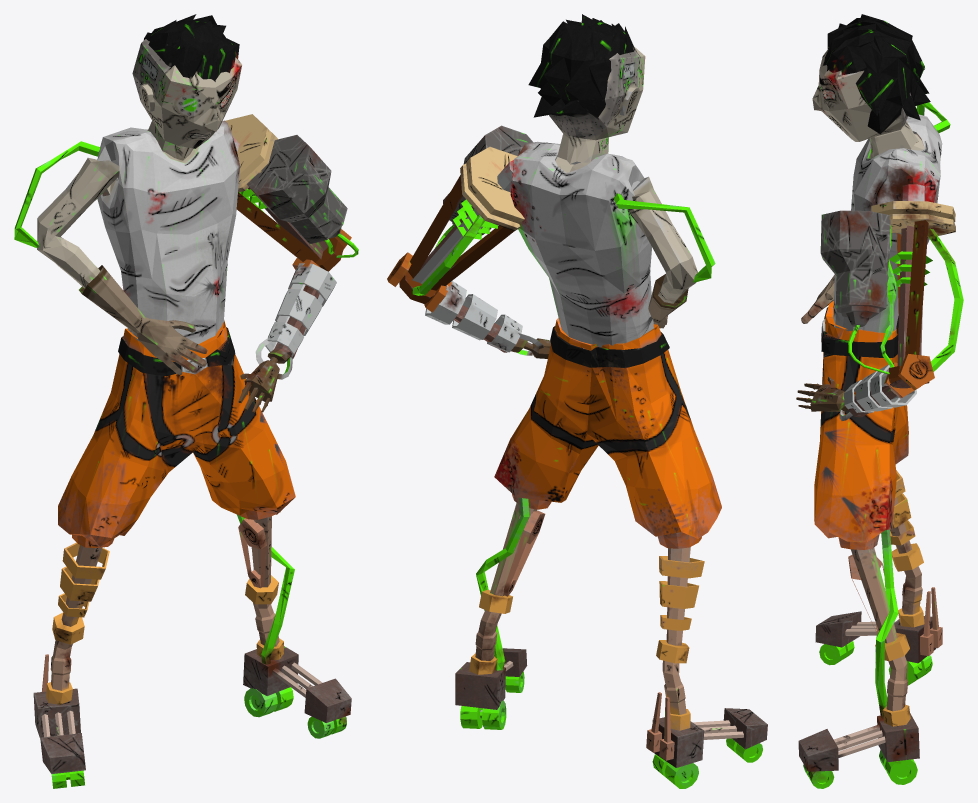
Rendered from CyborgFINALAnimation_000021.obj.
3 views of the same model, side by side, from view 1: azimuth 30°, elevation 25°; view 2: azimuth 150°, elevation 25°; view 3: azimuth 270°, elevation 25° (orthographic). The views are drawn at different scales.
Parts seen in each view (by area): view 1: CyborgMesh_Cube.002; view 2: CyborgMesh_Cube.002; view 3: CyborgMesh_Cube.002.
Part boxes in pixels (bbox=[...]): CyborgMesh_Cube.002: bbox=[14, 14, 358, 788]; CyborgMesh_Cube.002: bbox=[387, 14, 767, 788]; CyborgMesh_Cube.002: bbox=[796, 14, 963, 788].
Size of the model in its own units: 4.7 by 9.59 by 2.04.
